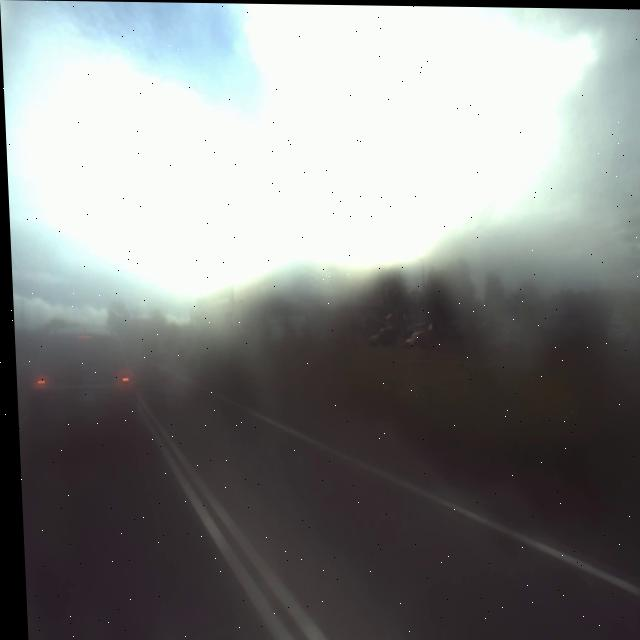car: (20, 322, 136, 441)
